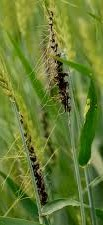Wheat Loose Smut: (49, 58, 78, 110)
